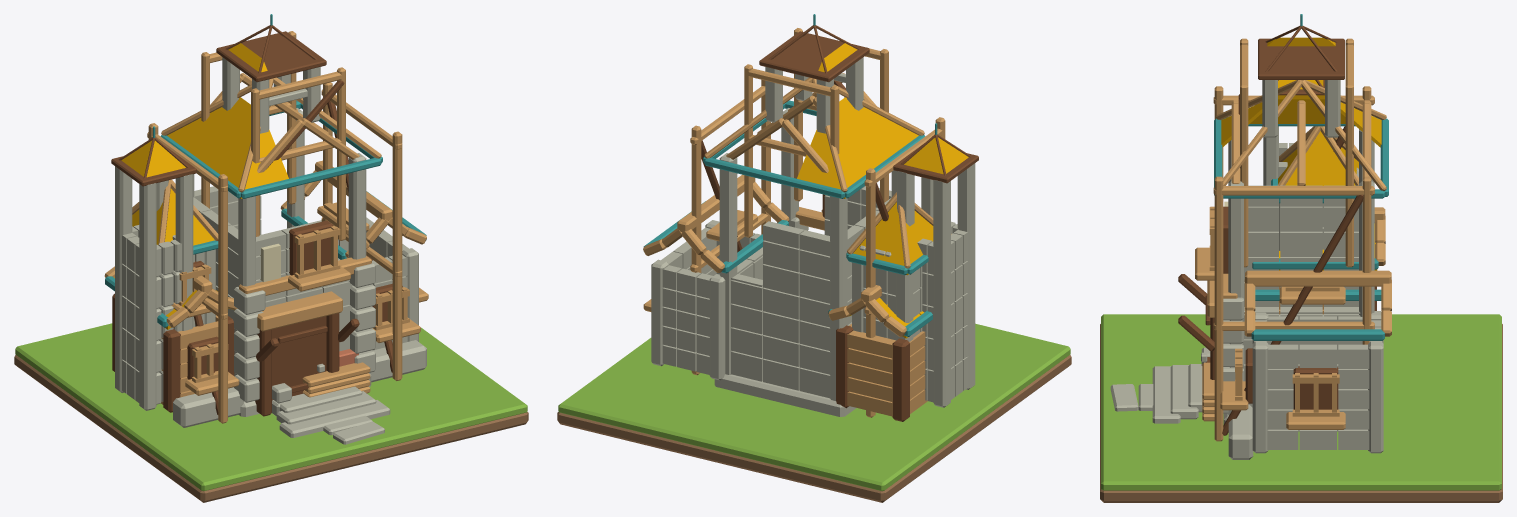
The model's file is town_hall_l07_construction_LOD0.glb.
3 renders of one model, left to right at view 1: azimuth 30°, elevation 25°; view 2: azimuth 150°, elevation 25°; view 3: azimuth 270°, elevation 25°, orthographic. The views are drawn at different scales.
Visible parts, largest first — view 1: town_hall_l07_construction_grass_tile, town_hall_l07_construction_earth_tile, town_hall_l07_construction_corner_reinforcement.020, town_hall_l07_construction_door_recess, town_hall_l07_construction_central_spire_cornice, town_hall_l07_construction_scaffold_post.002, town_hall_l07_construction_hip_roof_shingle.011, town_hall_l07_construction_scaffold_post, town_hall_l07_construction_corner_reinforcement.021, town_hall_l07_construction_door_lintel, town_hall_l07_construction_corner_reinforcement.022, town_hall_l07_construction_corner_reinforcement.002 (+41 smaller); view 2: town_hall_l07_construction_grass_tile, town_hall_l07_construction_earth_tile, town_hall_l07_construction_corner_reinforcement.021, town_hall_l07_construction_central_spire_cornice, town_hall_l07_construction_corner_reinforcement.001, town_hall_l07_construction_corner_reinforcement.003, town_hall_l07_construction_hip_roof_shingle.011, town_hall_l07_construction_corner_reinforcement.020, town_hall_l07_construction_foundation, town_hall_l07_construction_corner_reinforcement.009, town_hall_l07_construction_scaffold_post.001, town_hall_l07_construction_corner_reinforcement.005 (+50 smaller); view 3: town_hall_l07_construction_grass_tile, town_hall_l07_construction_earth_tile, town_hall_l07_construction_central_spire_cornice, town_hall_l07_construction_scaffold_post.002, town_hall_l07_construction_ridge_cap.005, town_hall_l07_construction_corner_reinforcement.010, town_hall_l07_construction_corner_reinforcement.011, town_hall_l07_construction_corner_reinforcement.002, town_hall_l07_construction_eave_trim.007, town_hall_l07_construction_scaffold_rail.003, town_hall_l07_construction_tower_frame_upright.003, town_hall_l07_construction_scaffold_post.003 (+50 smaller).
Part boxes in pixels (bbox=[...]): town_hall_l07_construction_grass_tile: bbox=[15, 323, 527, 491]; town_hall_l07_construction_earth_tile: bbox=[14, 355, 528, 502]; town_hall_l07_construction_corner_reinforcement.020: bbox=[139, 183, 156, 410]; town_hall_l07_construction_door_recess: bbox=[272, 316, 326, 400]; town_hall_l07_construction_central_spire_cornice: bbox=[216, 31, 326, 82]; town_hall_l07_construction_scaffold_post.002: bbox=[392, 131, 402, 380]; town_hall_l07_construction_hip_roof_shingle.011: bbox=[167, 119, 247, 198]; town_hall_l07_construction_scaffold_post: bbox=[218, 174, 227, 423]; town_hall_l07_construction_corner_reinforcement.021: bbox=[115, 166, 132, 392]; town_hall_l07_construction_door_lintel: bbox=[257, 291, 342, 331]; town_hall_l07_construction_corner_reinforcement.022: bbox=[175, 174, 193, 330]; town_hall_l07_construction_corner_reinforcement.002: bbox=[348, 153, 366, 259]; town_hall_l07_construction_grass_tile: bbox=[558, 323, 1070, 491]; town_hall_l07_construction_earth_tile: bbox=[557, 355, 1071, 502]; town_hall_l07_construction_corner_reinforcement.021: bbox=[933, 180, 950, 407]; town_hall_l07_construction_central_spire_cornice: bbox=[759, 31, 869, 82]; town_hall_l07_construction_corner_reinforcement.001: bbox=[830, 196, 847, 400]; town_hall_l07_construction_corner_reinforcement.003: bbox=[719, 153, 737, 374]; town_hall_l07_construction_hip_roof_shingle.011: bbox=[838, 119, 918, 198]; town_hall_l07_construction_corner_reinforcement.020: bbox=[957, 163, 975, 389]; town_hall_l07_construction_foundation: bbox=[714, 374, 856, 416]; town_hall_l07_construction_corner_reinforcement.009: bbox=[709, 274, 725, 380]; town_hall_l07_construction_scaffold_post.001: bbox=[866, 168, 875, 417]; town_hall_l07_construction_corner_reinforcement.005: bbox=[892, 338, 909, 421]; town_hall_l07_construction_grass_tile: bbox=[1101, 314, 1501, 490]; town_hall_l07_construction_earth_tile: bbox=[1100, 324, 1502, 502]; town_hall_l07_construction_central_spire_cornice: bbox=[1258, 38, 1344, 79]; town_hall_l07_construction_scaffold_post.002: bbox=[1214, 176, 1223, 441]; town_hall_l07_construction_ridge_cap.005: bbox=[1245, 270, 1391, 286]; town_hall_l07_construction_corner_reinforcement.010: bbox=[1252, 341, 1268, 453]; town_hall_l07_construction_corner_reinforcement.011: bbox=[1368, 341, 1383, 453]; town_hall_l07_construction_corner_reinforcement.002: bbox=[1228, 181, 1243, 414]; town_hall_l07_construction_eave_trim.007: bbox=[1251, 329, 1384, 340]; town_hall_l07_construction_scaffold_rail.003: bbox=[1213, 186, 1374, 195]; town_hall_l07_construction_tower_frame_upright.003: bbox=[1345, 83, 1353, 267]; town_hall_l07_construction_scaffold_post.003: bbox=[1362, 176, 1371, 344].
Size of the model in its own units: 3.6 by 4 by 3.6.
